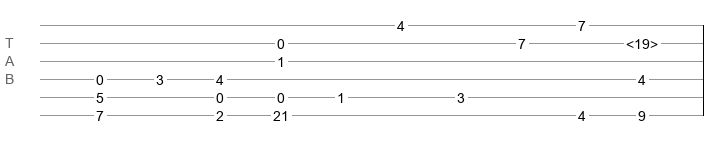0: (96, 72, 104, 82), (216, 90, 224, 100), (277, 36, 285, 46), (277, 90, 285, 100)
1: (277, 54, 285, 64), (337, 90, 345, 100)
2: (216, 108, 224, 118)
21: (273, 108, 289, 118)
3: (156, 72, 164, 82), (457, 90, 465, 100)
4: (216, 72, 224, 82), (397, 18, 405, 28), (578, 108, 586, 118), (638, 72, 646, 82)
5: (96, 90, 104, 100)
7: (96, 108, 104, 118), (518, 36, 526, 46), (578, 18, 586, 28)
9: (638, 108, 646, 118)
harmonic: (626, 36, 658, 46)
